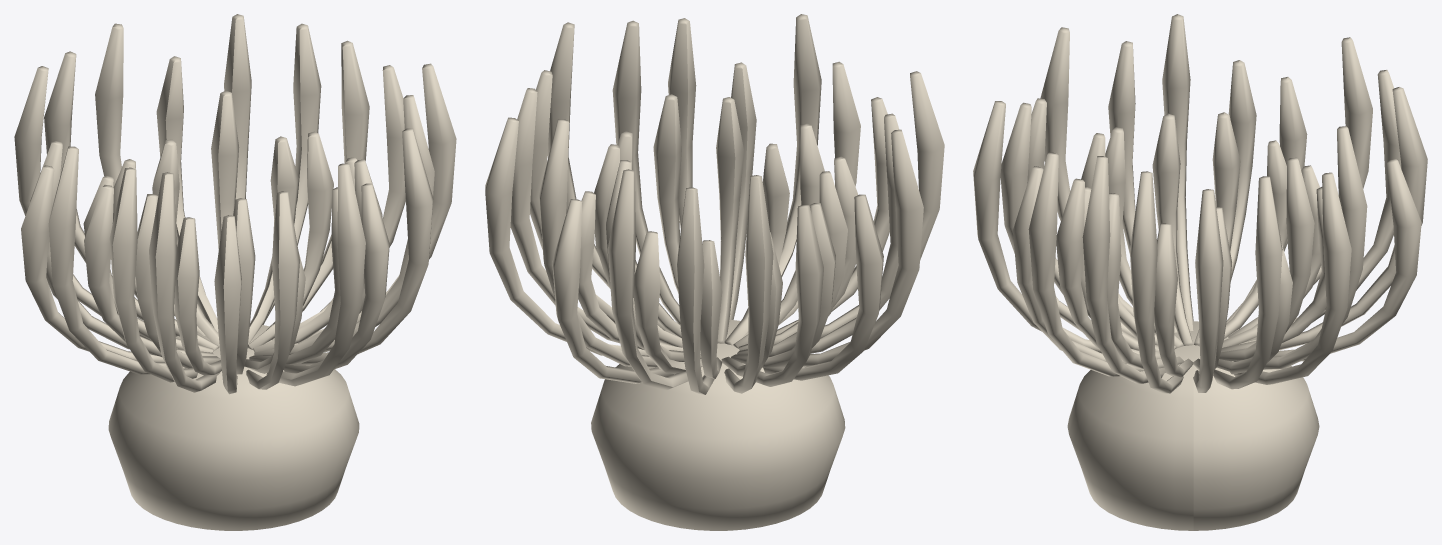
File: anemone.glb
3 renders of one model, left to right at view 1: azimuth 30°, elevation 25°; view 2: azimuth 150°, elevation 25°; view 3: azimuth 270°, elevation 25°, orthographic.
Visible parts, largest first — view 1: anemone; view 2: anemone; view 3: anemone.
Part boxes in pixels (bbox=[...]): anemone: bbox=[14, 14, 456, 530]; anemone: bbox=[485, 14, 944, 530]; anemone: bbox=[973, 14, 1427, 530].
Bounding box in the file's own units: 0.8147 × 0.7944 × 0.8229.
